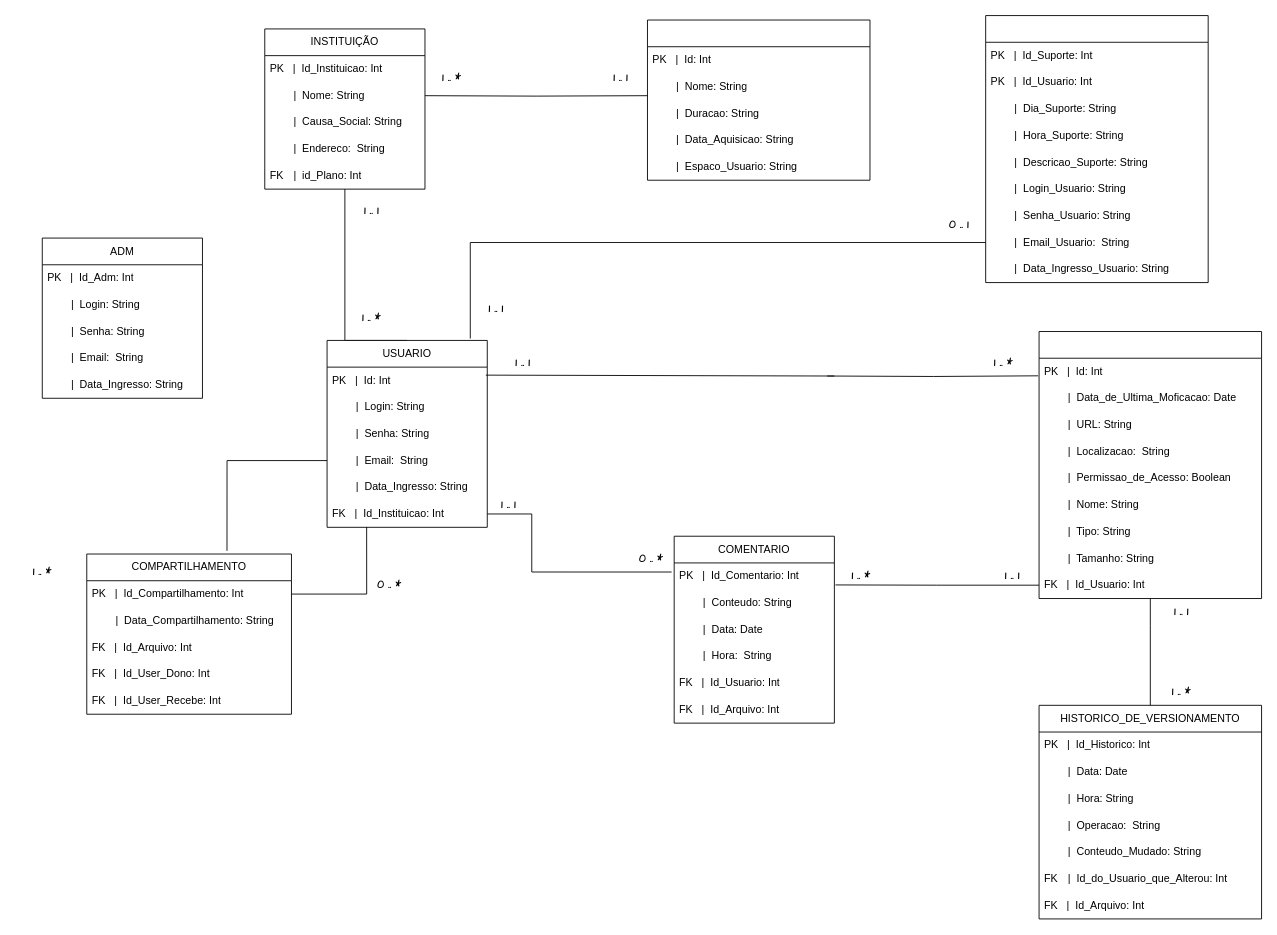
Some shapes in this 1277 by 935 pixel diagram are drawn without their labels. The shapes that lost their labels are listed below. From the top down, each one's box as (x1, y1, x2, y2) in pixels, then its label:
(647, 19, 870, 180): PLANO
(985, 15, 1208, 283): USUARIO_SUPIRTE
(1038, 331, 1262, 599): ARQUIVO
